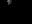person: (7, 0, 11, 4)
